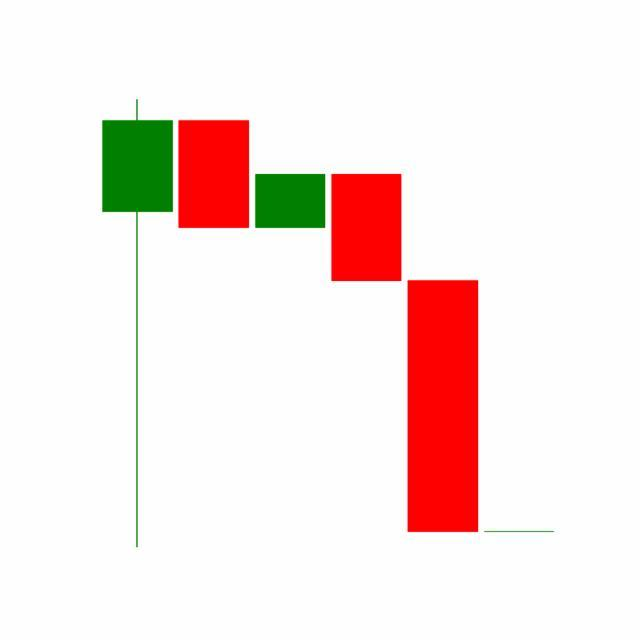Marubozu: (404, 278, 482, 536)
